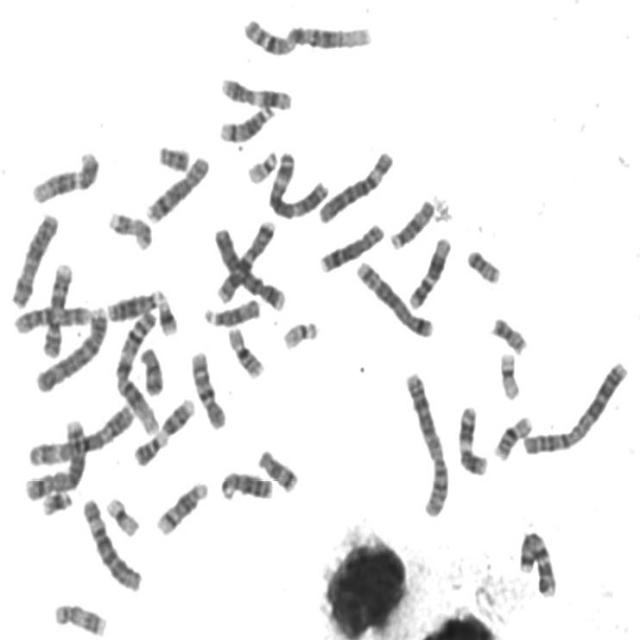A1: (110, 307, 162, 437), (237, 12, 374, 58)
A2: (518, 357, 631, 457), (401, 367, 451, 519)
A3: (23, 399, 136, 468), (263, 145, 330, 221)
B4: (32, 301, 109, 394), (212, 220, 282, 308)
B5: (352, 256, 434, 339), (22, 415, 88, 501)
C10: (186, 346, 228, 431), (11, 300, 92, 336)
C11: (216, 72, 294, 112), (453, 400, 490, 478)
C12: (28, 145, 101, 205), (405, 232, 453, 311)
C6: (314, 146, 396, 225), (78, 494, 143, 593)
C7: (212, 216, 280, 308), (515, 526, 559, 599)
C8: (142, 150, 210, 224), (315, 219, 386, 275)
C9: (130, 393, 197, 468), (38, 257, 75, 360)
D13: (103, 285, 165, 323), (216, 466, 275, 503)
D14: (152, 477, 210, 537), (215, 100, 276, 144)
D15: (386, 194, 436, 251), (200, 294, 262, 328)
E16: (223, 322, 266, 380), (489, 411, 534, 462)
E17: (49, 598, 109, 638), (104, 206, 154, 252)
E18: (254, 444, 300, 494), (136, 342, 165, 397)
F19: (101, 492, 141, 538), (496, 347, 522, 402)
F20: (487, 312, 529, 356), (462, 244, 503, 286)
G21: (153, 293, 180, 338), (37, 486, 74, 518)
G22: (278, 316, 320, 351), (243, 145, 279, 185)
X: (6, 208, 60, 310)
Y: (154, 140, 191, 174)
